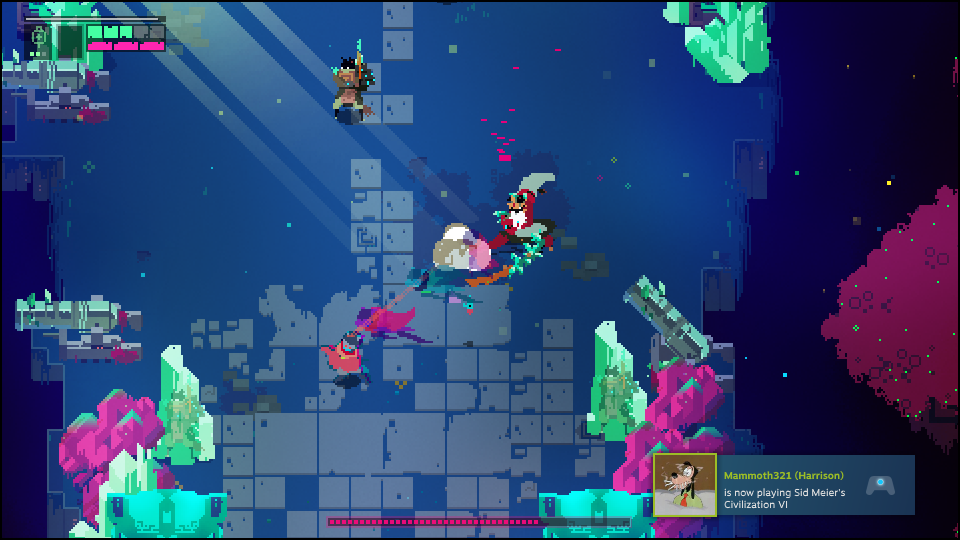hanged_man: (481, 171, 563, 282)
player: (314, 328, 367, 386)
